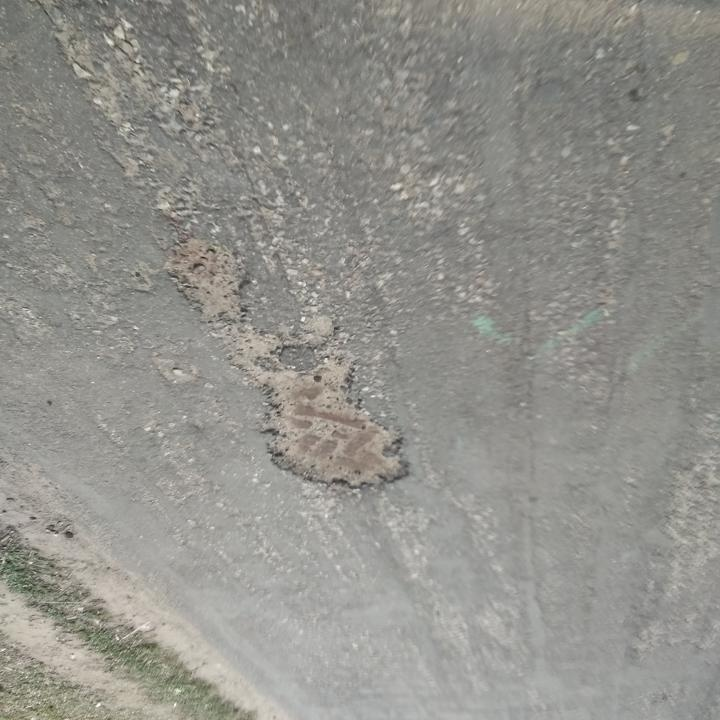pothole: (254, 359, 411, 496), (159, 238, 249, 326)
